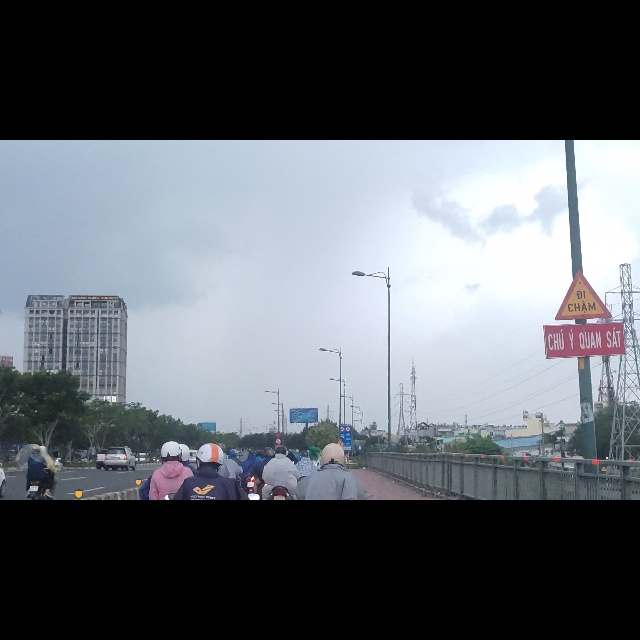bien_cam: (553, 229, 613, 323)
